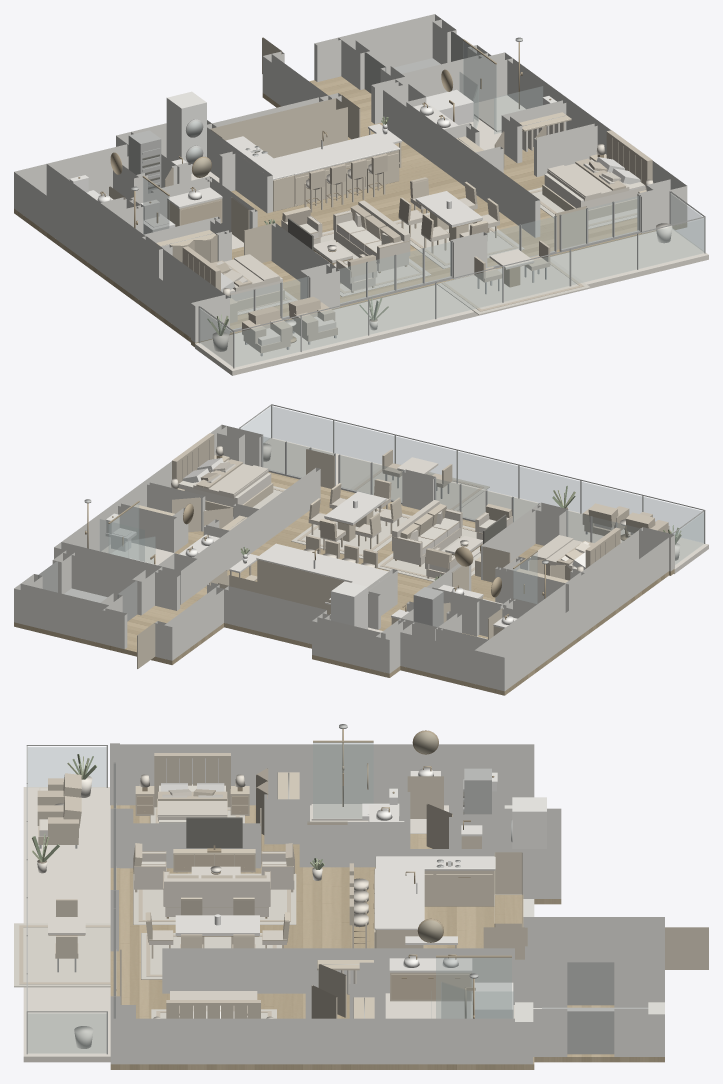
The picture shows the model from 3 angles, top to bottom: view 1: azimuth 30°, elevation 25°; view 2: azimuth 150°, elevation 25°; view 3: azimuth 270°, elevation 25°; orthographic projection. The views are drawn at different scales.
Size of the model in its own units: 14.99 by 2.37 by 15.81.
Materials: 21 (1 with a texture image).
